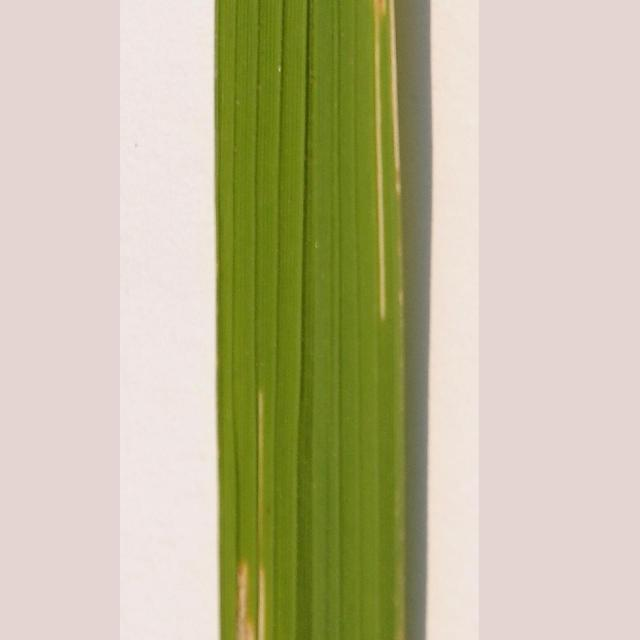Bacterial leaf blight: (233, 394, 287, 640), (366, 0, 406, 330)
